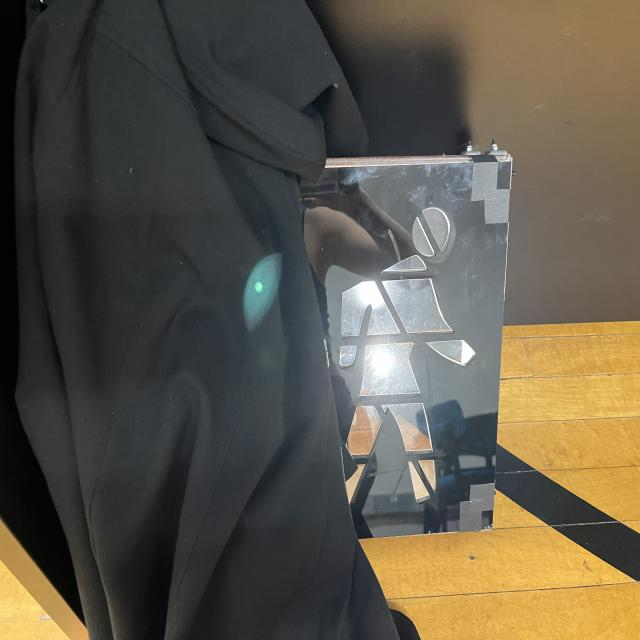go: (313, 165, 496, 534)
